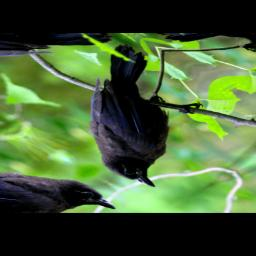Crow: (0, 41, 256, 192)
